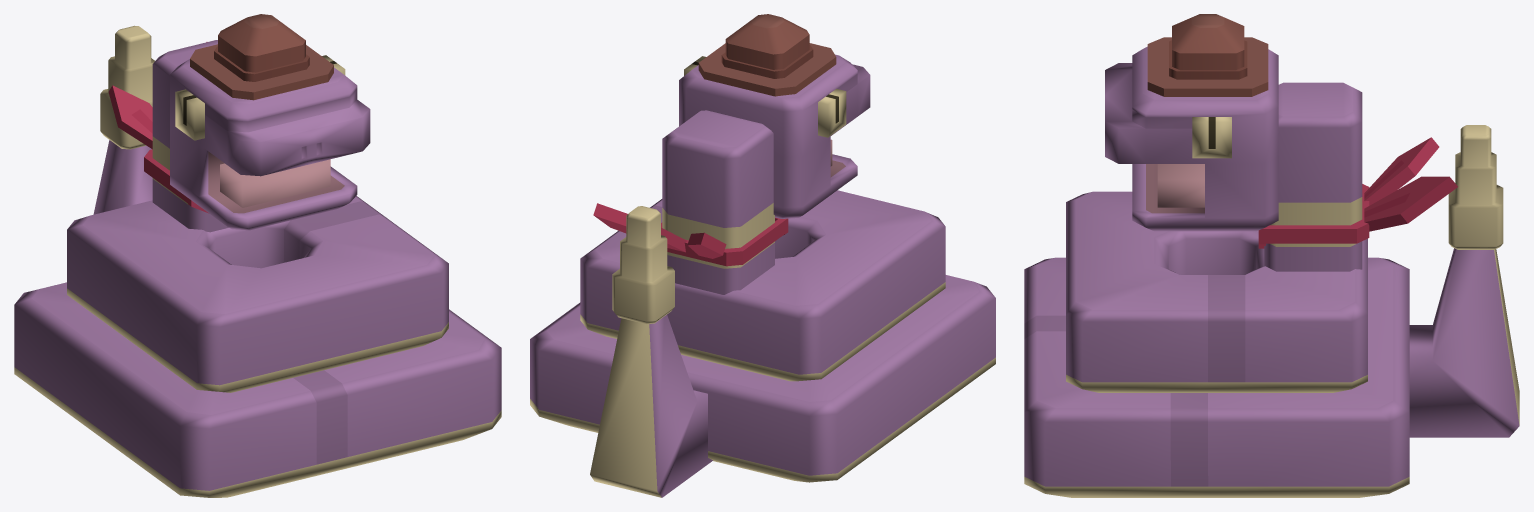
The model's file is PM23_CowboyHat.fbx.
3 renders of one model, left to right at view 1: azimuth 30°, elevation 25°; view 2: azimuth 150°, elevation 25°; view 3: azimuth 270°, elevation 25°, orthographic. The views are drawn at different scales.
Visible parts, largest first — view 1: model; view 2: model; view 3: model.
Boxes of the visible parts, box(x1,y1,x2,y2) form: model: box(14, 14, 501, 497); model: box(530, 14, 995, 497); model: box(1024, 14, 1519, 497).
Size of the model in its own units: 1.72 by 1.98 by 2.21.
